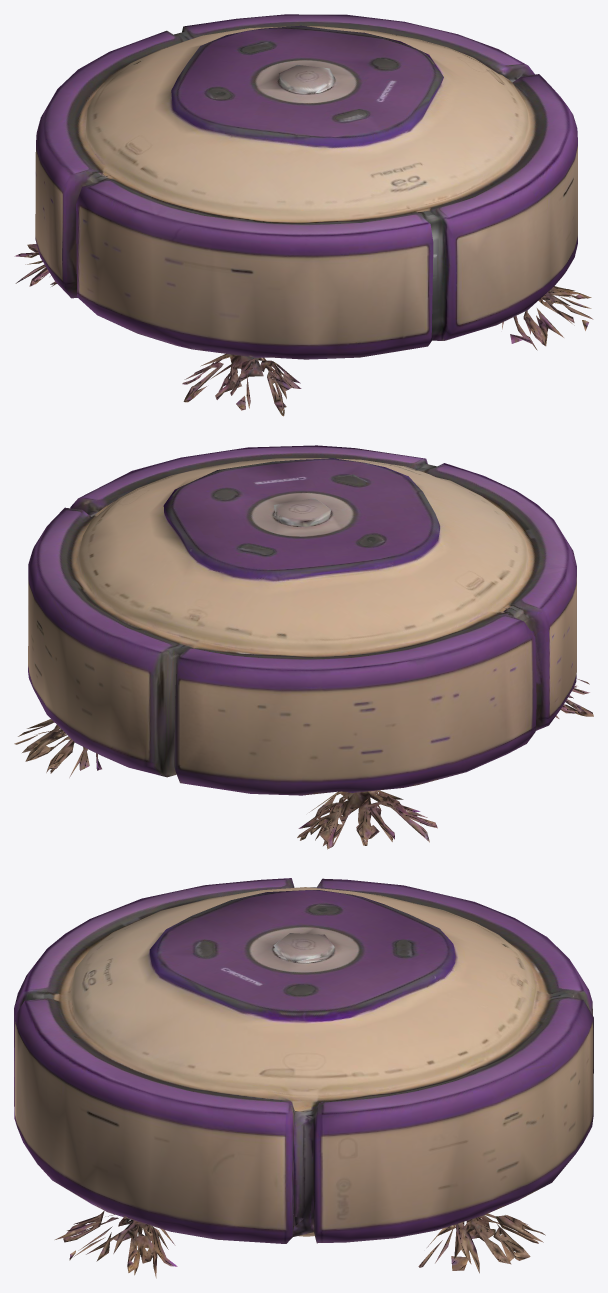
Rendered from Robotic_Vacuum_Charm_0408235806_texture.glb.
3 views of the same model, one above another, from view 1: azimuth 30°, elevation 25°; view 2: azimuth 150°, elevation 25°; view 3: azimuth 270°, elevation 25° (orthographic). The views are drawn at different scales.
Visible parts, largest first — view 1: Mesh1; view 2: Mesh1; view 3: Mesh1.
Boxes of the visible parts, box(x1,y1,x2,y2) form: Mesh1: box(14, 14, 593, 416); Mesh1: box(14, 445, 593, 849); Mesh1: box(14, 878, 593, 1278).
Bounding box in the file's own units: 2 × 0.889 × 2.
Materials: 1 (1 with a texture image).
